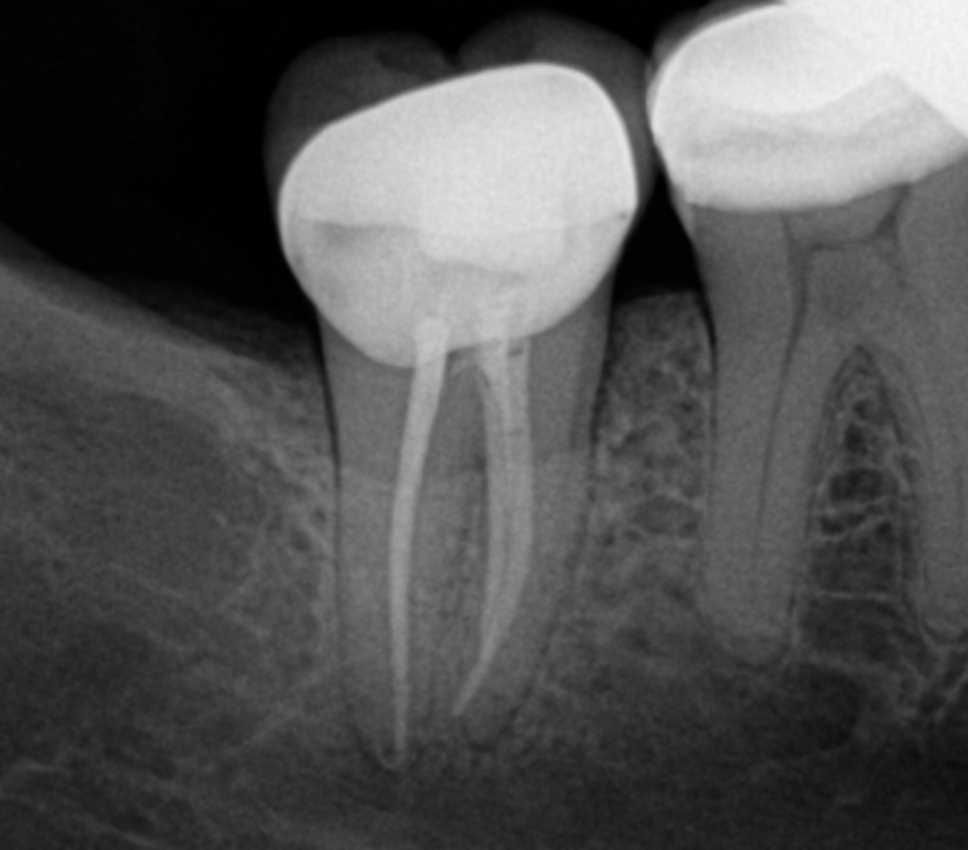Distal Canal: (753, 291, 810, 609)
Distal Root: (671, 214, 877, 671), (313, 325, 481, 771)
Mesial Canal: (911, 308, 954, 549)
Mesial Root: (445, 295, 605, 750), (870, 279, 968, 634)
Root Canal Filling: (448, 340, 536, 720), (387, 364, 445, 754)
